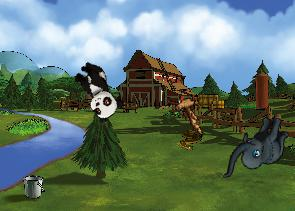eagle: (160, 84, 218, 137)
elephant: (222, 108, 291, 188)
panda: (67, 57, 127, 124)
